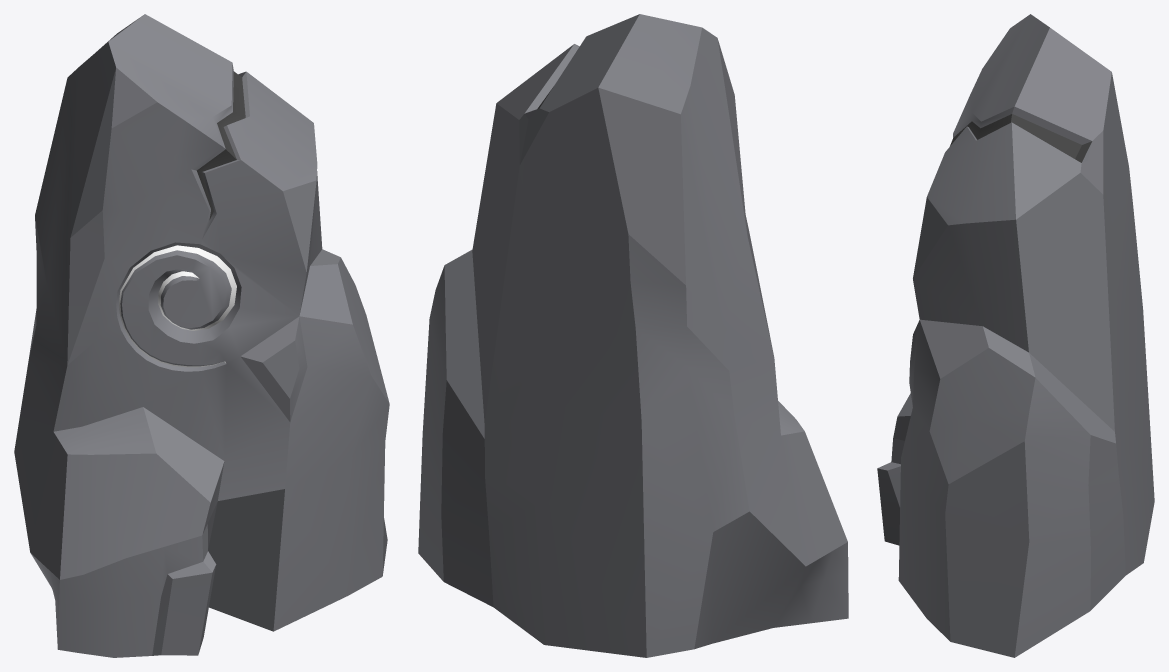
File: Magic.glb
3 views of the same model, side by side, from view 1: azimuth 30°, elevation 25°; view 2: azimuth 150°, elevation 25°; view 3: azimuth 270°, elevation 25° (orthographic). The views are drawn at different scales.
Parts seen in each view (by area): view 1: Magic Rock; view 2: Magic Rock; view 3: Magic Rock.
Part boxes in pixels (x1,y1,x2,y2): Magic Rock: (14,14,389,657); Magic Rock: (418,14,848,657); Magic Rock: (877,14,1154,657).
Bounding box in the file's own units: 1.24 × 1.87 × 0.8811.
Materials: 2 (2 with a texture image).
